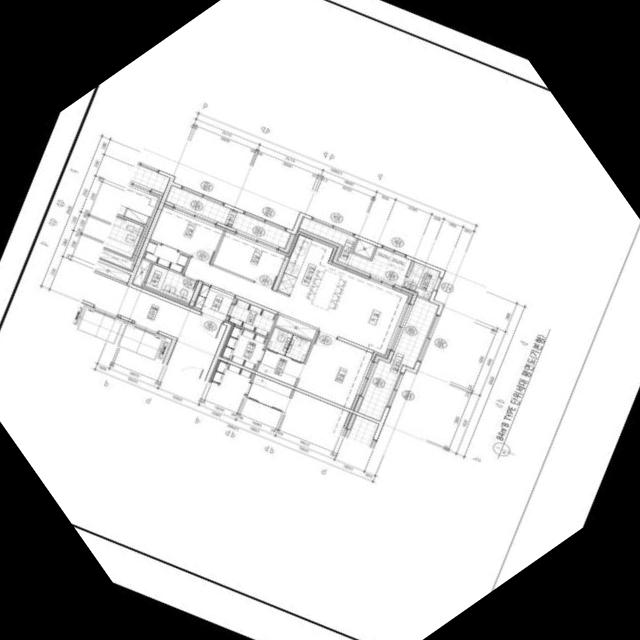background: (0, 0, 640, 640)
space_balconi: (357, 295, 438, 420), (165, 184, 290, 248), (298, 215, 411, 285)
space_bedroom: (295, 331, 375, 409), (149, 203, 224, 262), (212, 228, 286, 287)
space_dressroom: (219, 323, 266, 369), (256, 348, 302, 385), (142, 239, 188, 272)
space_elevator: (115, 320, 171, 362), (71, 302, 124, 344)
space_elevator_hall: (81, 271, 226, 380)
space_front: (192, 282, 234, 320)
space_kitchen: (276, 230, 351, 312)
space_living_room: (183, 256, 412, 357)
space_other: (227, 298, 276, 336), (274, 313, 316, 339), (93, 260, 130, 282), (131, 258, 150, 286), (353, 238, 374, 257)
space_outdoor_room: (403, 260, 439, 298)
space_toilet: (143, 262, 197, 303), (264, 326, 311, 363)
